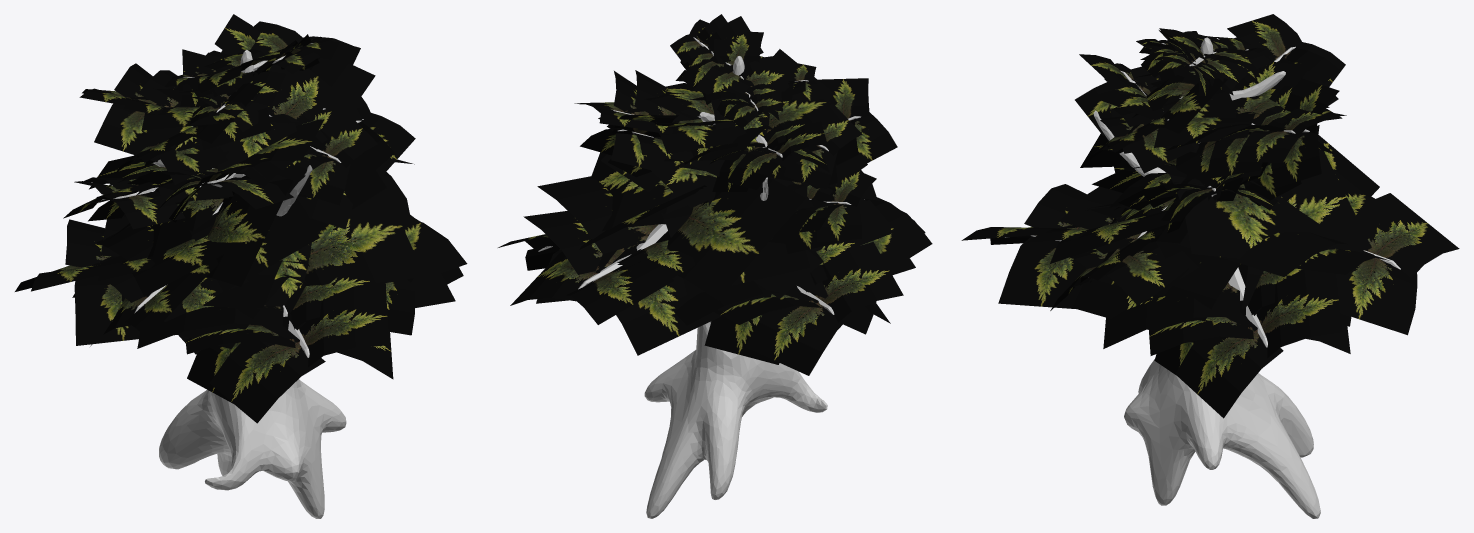
File: tree1.fbx
3 renders of one model, left to right at view 1: azimuth 30°, elevation 25°; view 2: azimuth 150°, elevation 25°; view 3: azimuth 270°, elevation 25°, orthographic. The views are drawn at different scales.
Visible parts, largest first — view 1: Cylinder.016, Cylinder.003, Cube, Cylinder.017, Cylinder.002, Cylinder.008, Cylinder.001, Cylinder.005, Cylinder, Cylinder.013, Cylinder.006, Cylinder.007 (+6 smaller); view 2: Cylinder.004, Cylinder.017, Cube, Cylinder.007, Cylinder.008, Cylinder.005, Cylinder.010, Cylinder.009, Cylinder.013, Cylinder, Cylinder.003, Cylinder.014 (+4 smaller); view 3: Cylinder.015, Cylinder.004, Cube, Cylinder.016, Cylinder.007, Cylinder.014, Cylinder.006, Cylinder.002, Cylinder, Cylinder.008, Cylinder.001, Cylinder.009 (+3 smaller).
Part boxes in pixels (x1,y1,x2,y2): Cylinder.016: [121, 189, 424, 423]; Cylinder.003: [90, 165, 319, 354]; Cube: [153, 50, 346, 518]; Cylinder.017: [15, 214, 282, 345]; Cylinder.002: [216, 64, 377, 205]; Cylinder.008: [79, 63, 234, 167]; Cylinder.001: [297, 96, 415, 231]; Cylinder.005: [63, 163, 233, 229]; Cylinder: [127, 119, 324, 222]; Cylinder.013: [115, 83, 271, 184]; Cylinder.006: [264, 179, 444, 335]; Cylinder.007: [176, 21, 375, 120]; Cylinder.004: [510, 152, 810, 355]; Cylinder.017: [674, 196, 903, 375]; Cube: [644, 56, 827, 518]; Cylinder.007: [574, 70, 745, 176]; Cylinder.008: [664, 98, 841, 191]; Cylinder.005: [769, 163, 876, 253]; Cylinder.010: [695, 55, 789, 128]; Cylinder.009: [670, 14, 763, 104]; Cylinder.013: [711, 49, 862, 189]; Cylinder: [767, 78, 897, 191]; Cylinder.003: [695, 174, 913, 334]; Cylinder.014: [580, 114, 769, 177]; Cylinder.015: [1072, 139, 1371, 418]; Cylinder.004: [1158, 135, 1459, 335]; Cube: [1093, 37, 1320, 518]; Cylinder.016: [961, 184, 1205, 308]; Cylinder.007: [1154, 87, 1342, 178]; Cylinder.014: [1176, 61, 1346, 206]; Cylinder.006: [1050, 186, 1216, 310]; Cylinder.002: [1086, 75, 1235, 173]; Cylinder: [1075, 54, 1198, 153]; Cylinder.008: [1146, 14, 1345, 106]; Cylinder.001: [1109, 164, 1277, 233]; Cylinder.009: [1159, 28, 1247, 95].
Bounding box in the file's own units: 1114 × 1260 × 1179.
